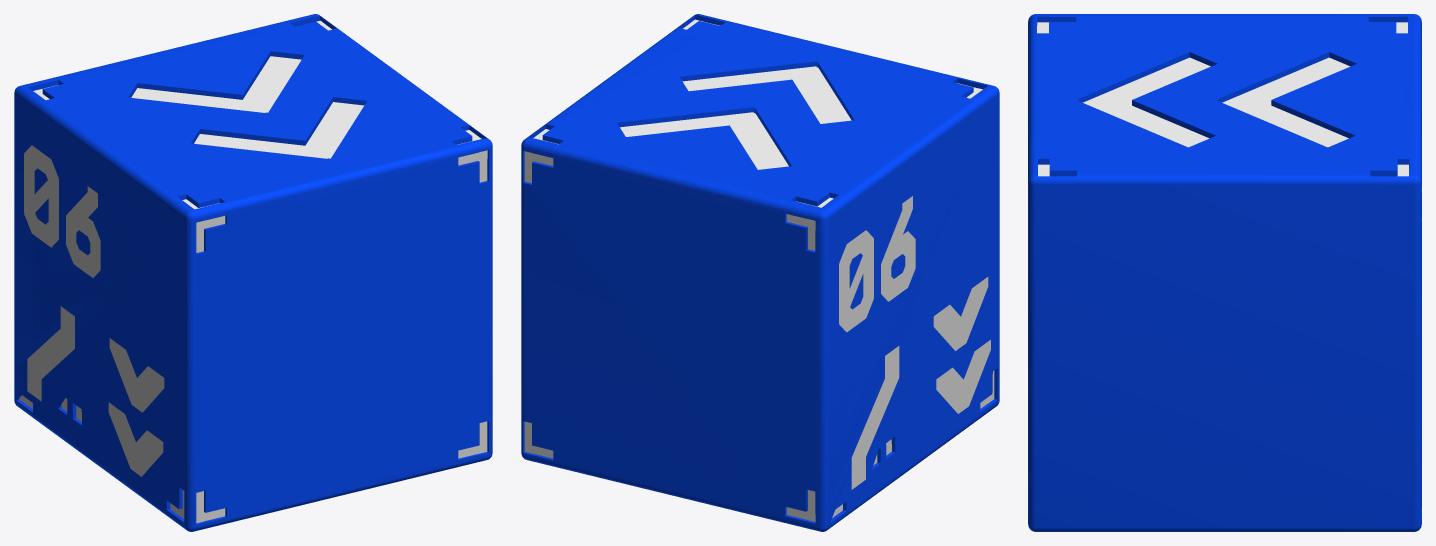
The model's file is cube_down_06.fbx.
The picture shows the model from 3 angles, left to right: view 1: azimuth 30°, elevation 25°; view 2: azimuth 150°, elevation 25°; view 3: azimuth 270°, elevation 25°; orthographic projection. The views are drawn at different scales.
Parts seen in each view (by area): view 1: Cube.001, Plane, Text, Text.075, Plane.002, Text.074, Text.063; view 2: Cube.001, Plane, Text, Text.075, Plane.003, Text.074, Text.063; view 3: Cube.001, Plane.
Boxes of the visible parts, x1,y1,x2,y2 form: Cube.001: [14, 14, 492, 531]; Plane: [33, 20, 481, 209]; Text: [24, 145, 100, 277]; Text.075: [27, 306, 74, 401]; Plane.002: [196, 150, 487, 523]; Text.074: [109, 338, 164, 412]; Text.063: [108, 402, 163, 476]; Cube.001: [521, 14, 999, 531]; Plane: [533, 19, 982, 207]; Text: [839, 196, 915, 332]; Text.075: [851, 346, 899, 489]; Plane.003: [524, 151, 815, 521]; Text.074: [933, 277, 988, 350]; Text.063: [936, 339, 990, 413]; Cube.001: [1028, 14, 1421, 531]; Plane: [1037, 22, 1408, 176].
Bounding box in the file's own units: 205 × 200 × 200.
